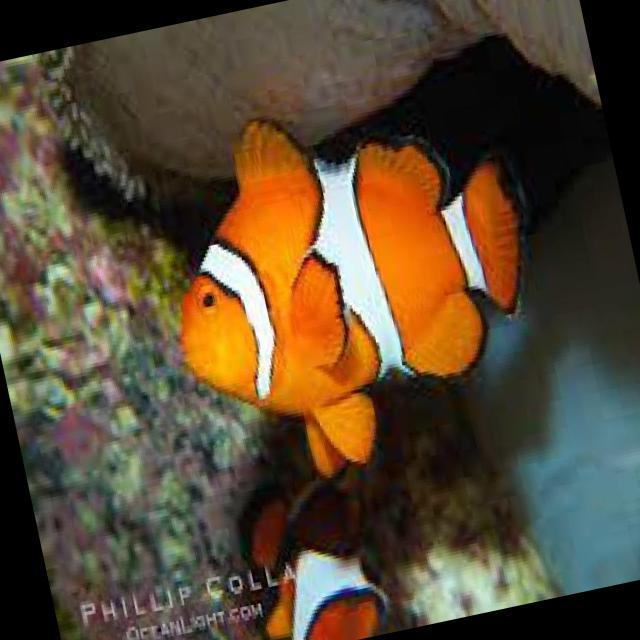ClownFish: (138, 76, 558, 502), (238, 482, 404, 640)
